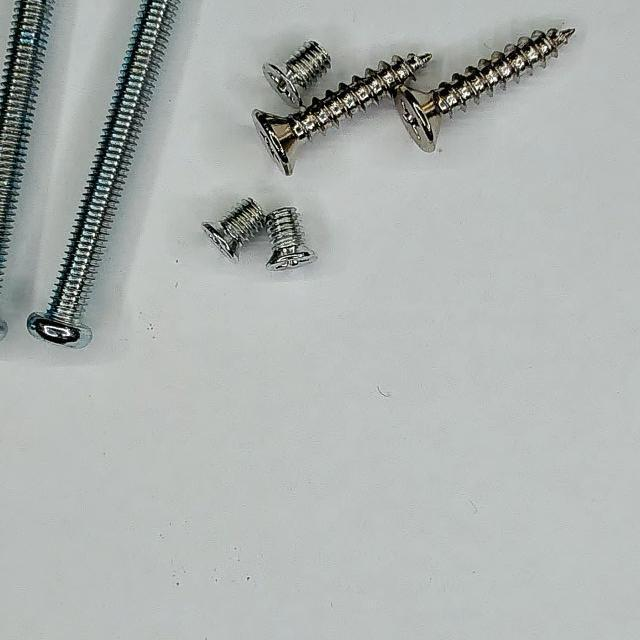Screw: (27, 0, 178, 348), (394, 28, 576, 152), (254, 53, 432, 174), (0, 0, 52, 288), (263, 40, 331, 108), (202, 198, 265, 260), (266, 207, 317, 271)
